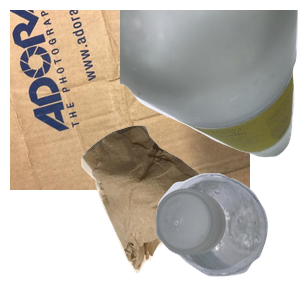cardboard: (10, 10, 250, 190)
glass: (120, 10, 300, 160)
plastic: (153, 170, 300, 300)
trash: (79, 123, 281, 300)
